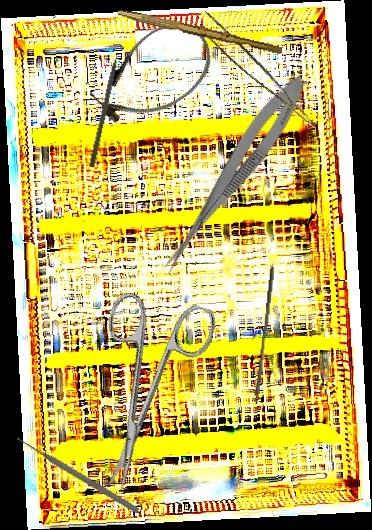Cannula: (79, 8, 227, 141)
Iris Scissors: (62, 282, 220, 502)
Micro Scissor: (155, 68, 315, 283)
Pusher: (14, 434, 141, 515), (88, 40, 125, 169), (254, 265, 275, 398)
Scalpel Handle: (116, 8, 284, 56)
Tissue Forceps: (190, 10, 329, 129)
